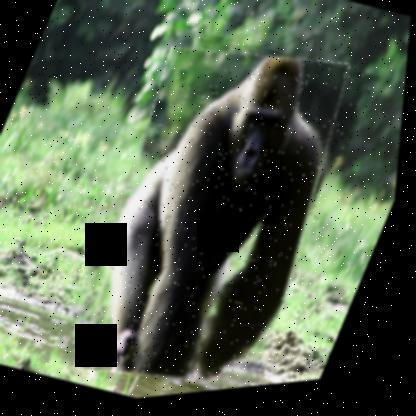Gorilla gorilla: (55, 17, 387, 408)
